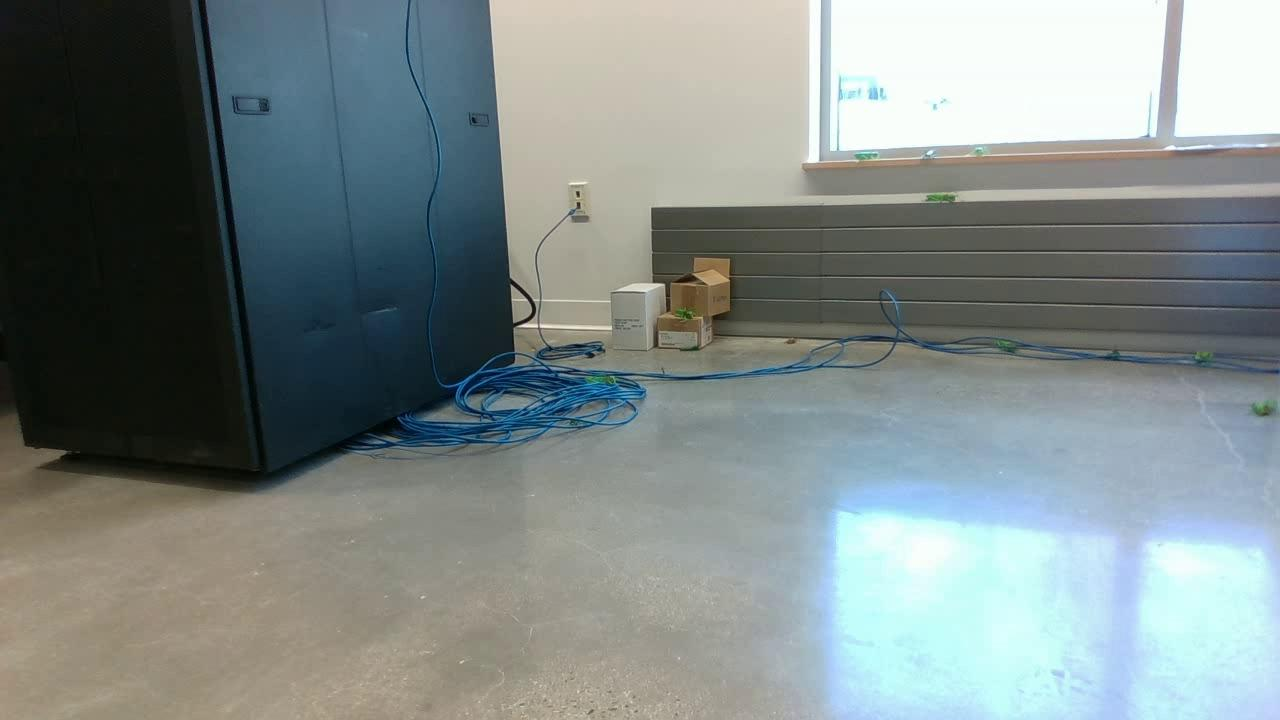grasshopper: (1243, 393, 1280, 418), (918, 191, 961, 207), (575, 374, 623, 388), (850, 148, 882, 162), (965, 143, 992, 157), (670, 305, 693, 321)
